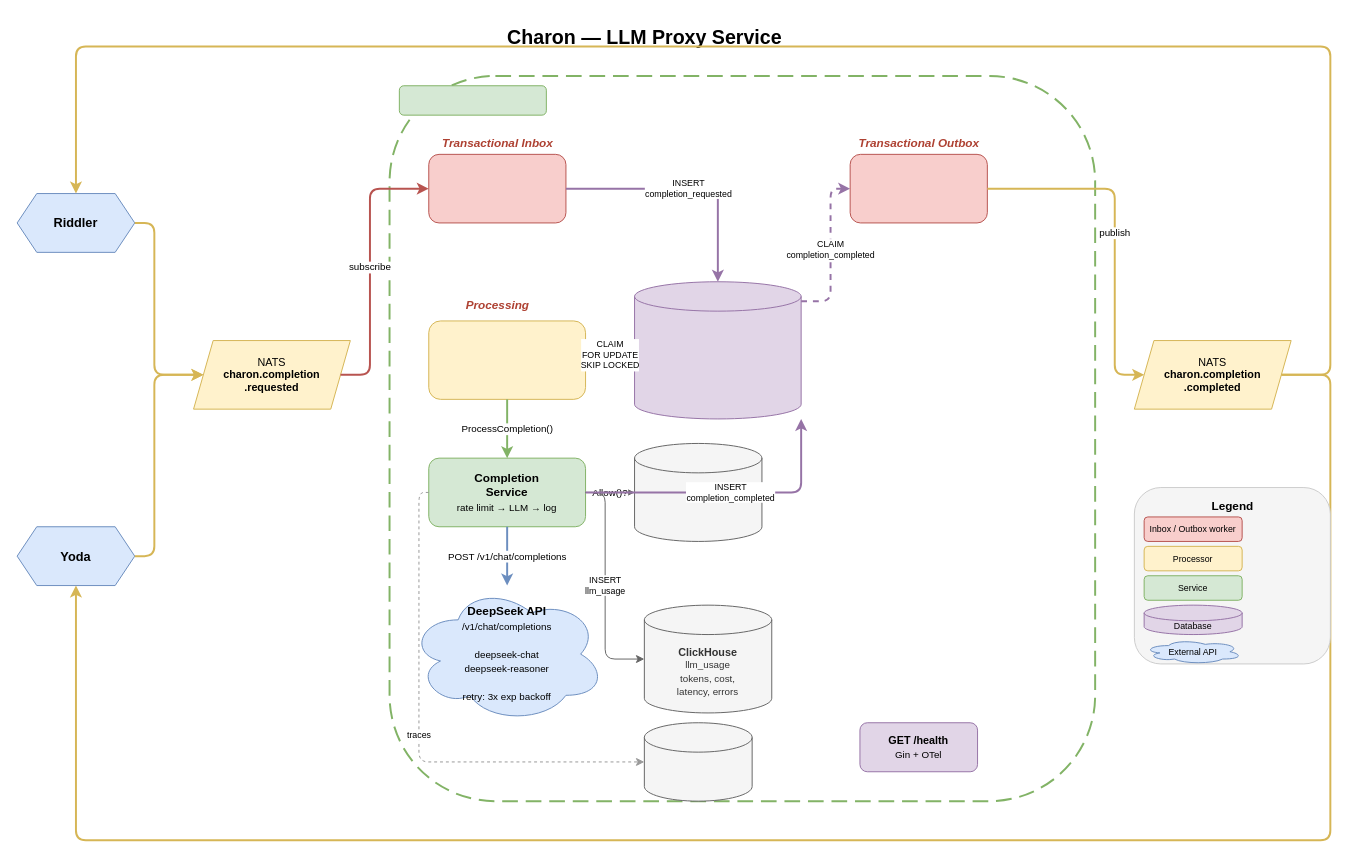
This 1356x865 diagram has some shape labels left out. The shapes that lost their labels are listed below. From the top down, each one's centre as x and y in pixels, then its label:
At (x=472, y=100): "Charon Service".
At (x=497, y=188): "Completion Consumer NATS → DB".
At (x=918, y=188): "Completion Publisher DB → NATS".
At (x=507, y=359): "Completion Processor poll 2s, batch 10 retry 30s, max 5".
At (x=717, y=350): "PostgreSQL task table (inbox + outbox) completion_requested completion_completed".
At (x=698, y=491): "Redis Rate Limit sliding window per service/min".
At (x=697, y=761): "Jaeger OTLP gRPC traces".
